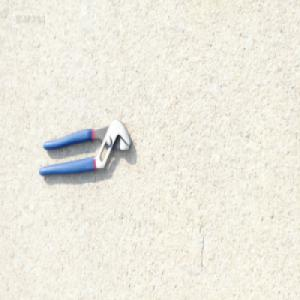Pliers: (37, 117, 132, 179)
